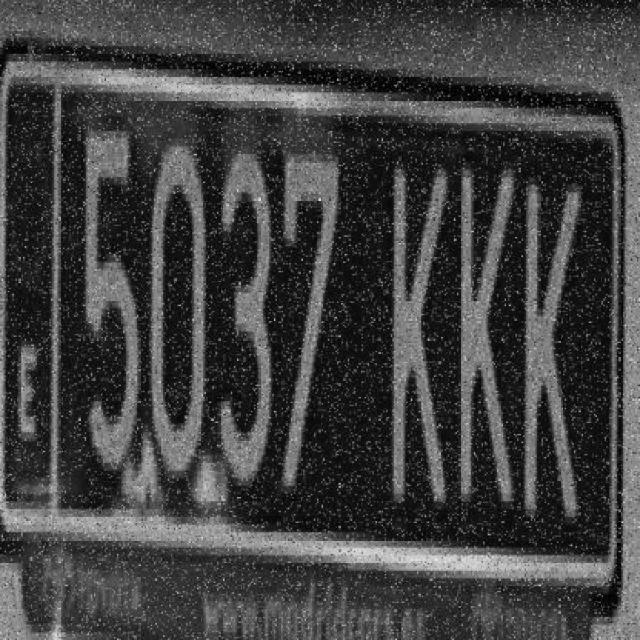licenseplate: (0, 6, 640, 640)
